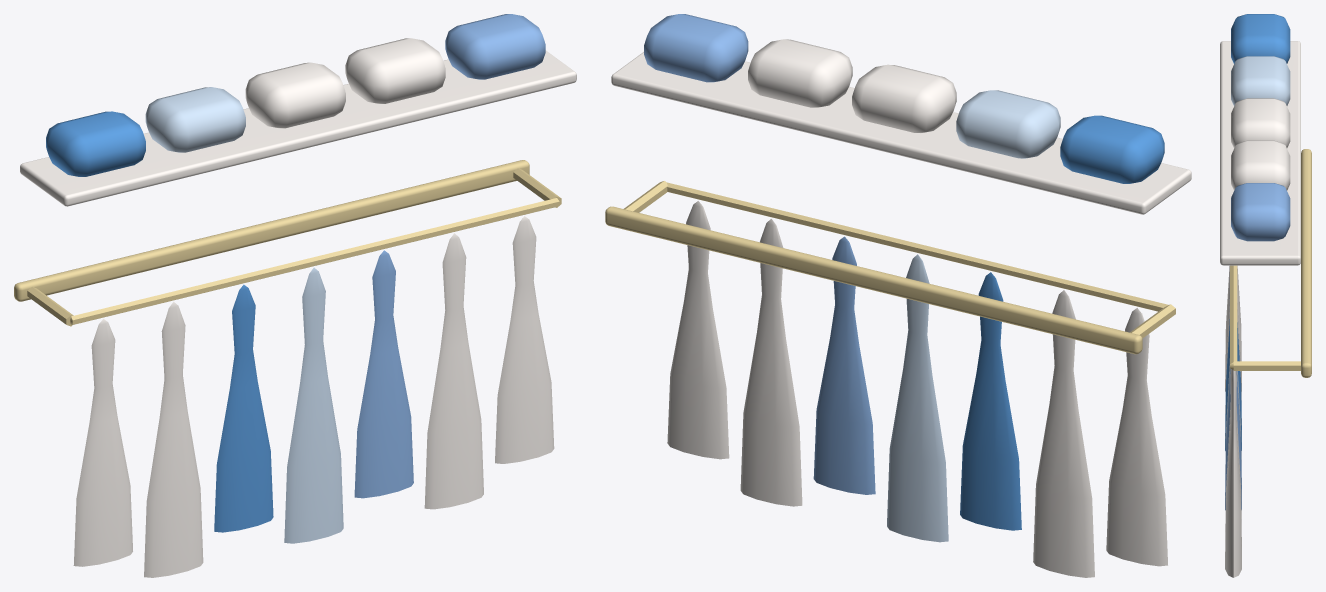
File: rack_wall_rail.glb
3 views of the same model, side by side, from view 1: azimuth 30°, elevation 25°; view 2: azimuth 150°, elevation 25°; view 3: azimuth 270°, elevation 25° (orthographic). The views are drawn at different scales.
Visible parts, largest first — view 1: rack_wall_rail; view 2: rack_wall_rail; view 3: rack_wall_rail.
Part boxes in pixels (x1,y1,x2,y2): rack_wall_rail: [14, 14, 576, 577]; rack_wall_rail: [605, 14, 1191, 577]; rack_wall_rail: [1220, 14, 1311, 577].
Size of the model in its own units: 1.9 by 1.6 by 0.34.
